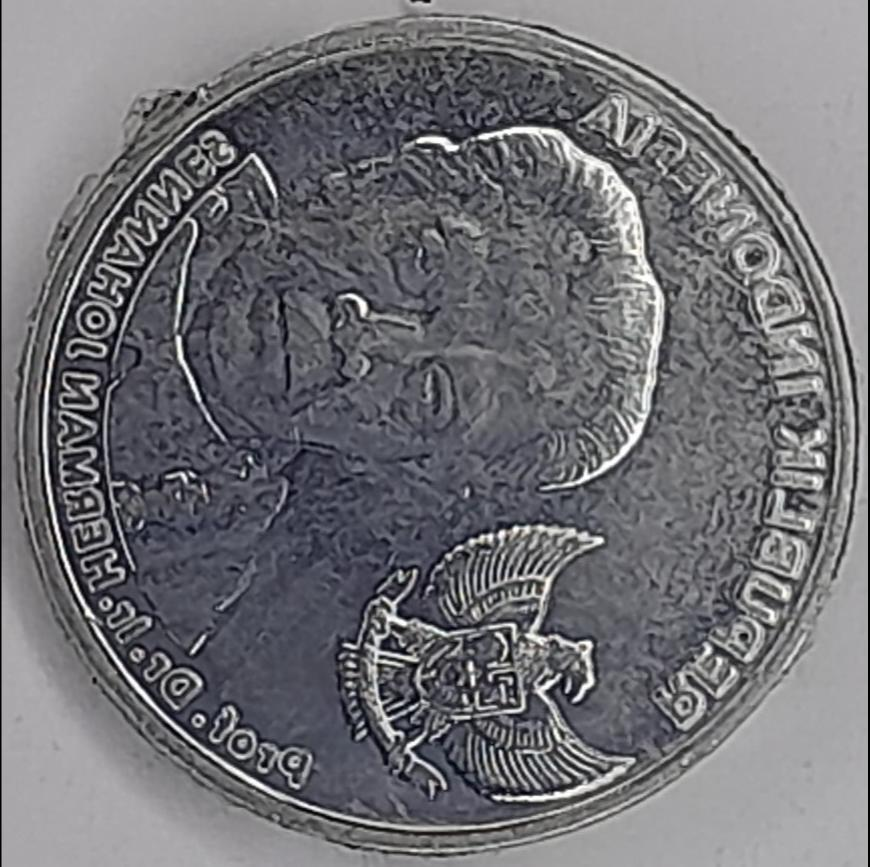coin_100_e2016: (9, 3, 865, 860)
